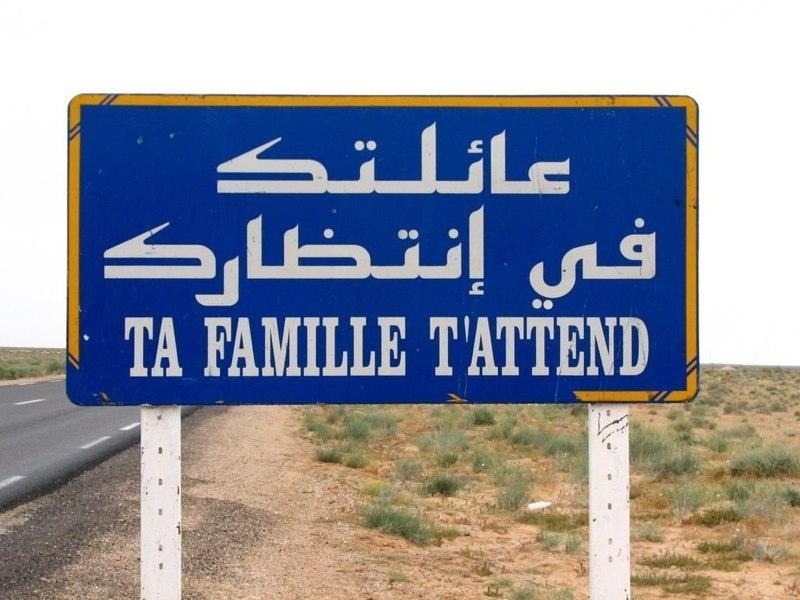text: (113, 203, 128, 309), (129, 203, 144, 309), (145, 203, 160, 309), (161, 203, 176, 309), (177, 203, 192, 309), (193, 203, 208, 309), (209, 203, 224, 309), (225, 203, 240, 309), (241, 203, 256, 309), (257, 203, 272, 309), (273, 203, 288, 309), (289, 203, 304, 309), (305, 203, 320, 309), (321, 203, 336, 309), (337, 203, 352, 309), (353, 203, 368, 309), (369, 203, 384, 309), (385, 203, 400, 309), (401, 203, 416, 309), (417, 203, 432, 309), (433, 203, 448, 309), (449, 203, 464, 309), (465, 203, 480, 309), (529, 216, 544, 312), (545, 216, 560, 312), (561, 216, 576, 312), (577, 216, 592, 312), (593, 216, 608, 312), (609, 216, 624, 312), (625, 216, 640, 312), (641, 216, 656, 312), (225, 119, 240, 199), (241, 119, 256, 199), (257, 119, 272, 199), (273, 119, 288, 199), (289, 119, 304, 199), (305, 119, 320, 199), (321, 119, 336, 199), (337, 119, 352, 199), (353, 119, 368, 199), (369, 119, 384, 199), (385, 119, 400, 199), (401, 119, 416, 199), (417, 119, 432, 199), (433, 119, 448, 199), (449, 119, 464, 199), (465, 119, 480, 199), (481, 119, 496, 199), (497, 119, 512, 199), (513, 119, 528, 199), (529, 119, 544, 199), (545, 119, 560, 199), (102, 203, 112, 309), (561, 119, 574, 199), (129, 313, 144, 380), (145, 313, 160, 380), (161, 313, 176, 380), (433, 313, 448, 378), (449, 313, 464, 378), (465, 313, 480, 378), (481, 313, 496, 378), (497, 313, 512, 378), (513, 313, 528, 378), (529, 313, 544, 378), (545, 313, 560, 378), (561, 313, 576, 378), (577, 313, 592, 378), (593, 313, 608, 378), (609, 313, 624, 378), (625, 313, 640, 378), (209, 316, 224, 378), (225, 316, 240, 378), (241, 316, 256, 378), (257, 316, 272, 378), (273, 316, 288, 378), (289, 316, 304, 378), (305, 316, 320, 378), (321, 316, 336, 378), (337, 316, 352, 378), (353, 316, 368, 378), (369, 316, 384, 378), (385, 316, 400, 378), (481, 203, 489, 309), (214, 119, 224, 199), (641, 313, 652, 378), (177, 313, 185, 380), (401, 316, 408, 378), (657, 216, 661, 312), (123, 313, 128, 380), (427, 313, 432, 378), (203, 316, 208, 378), (526, 216, 528, 312)
